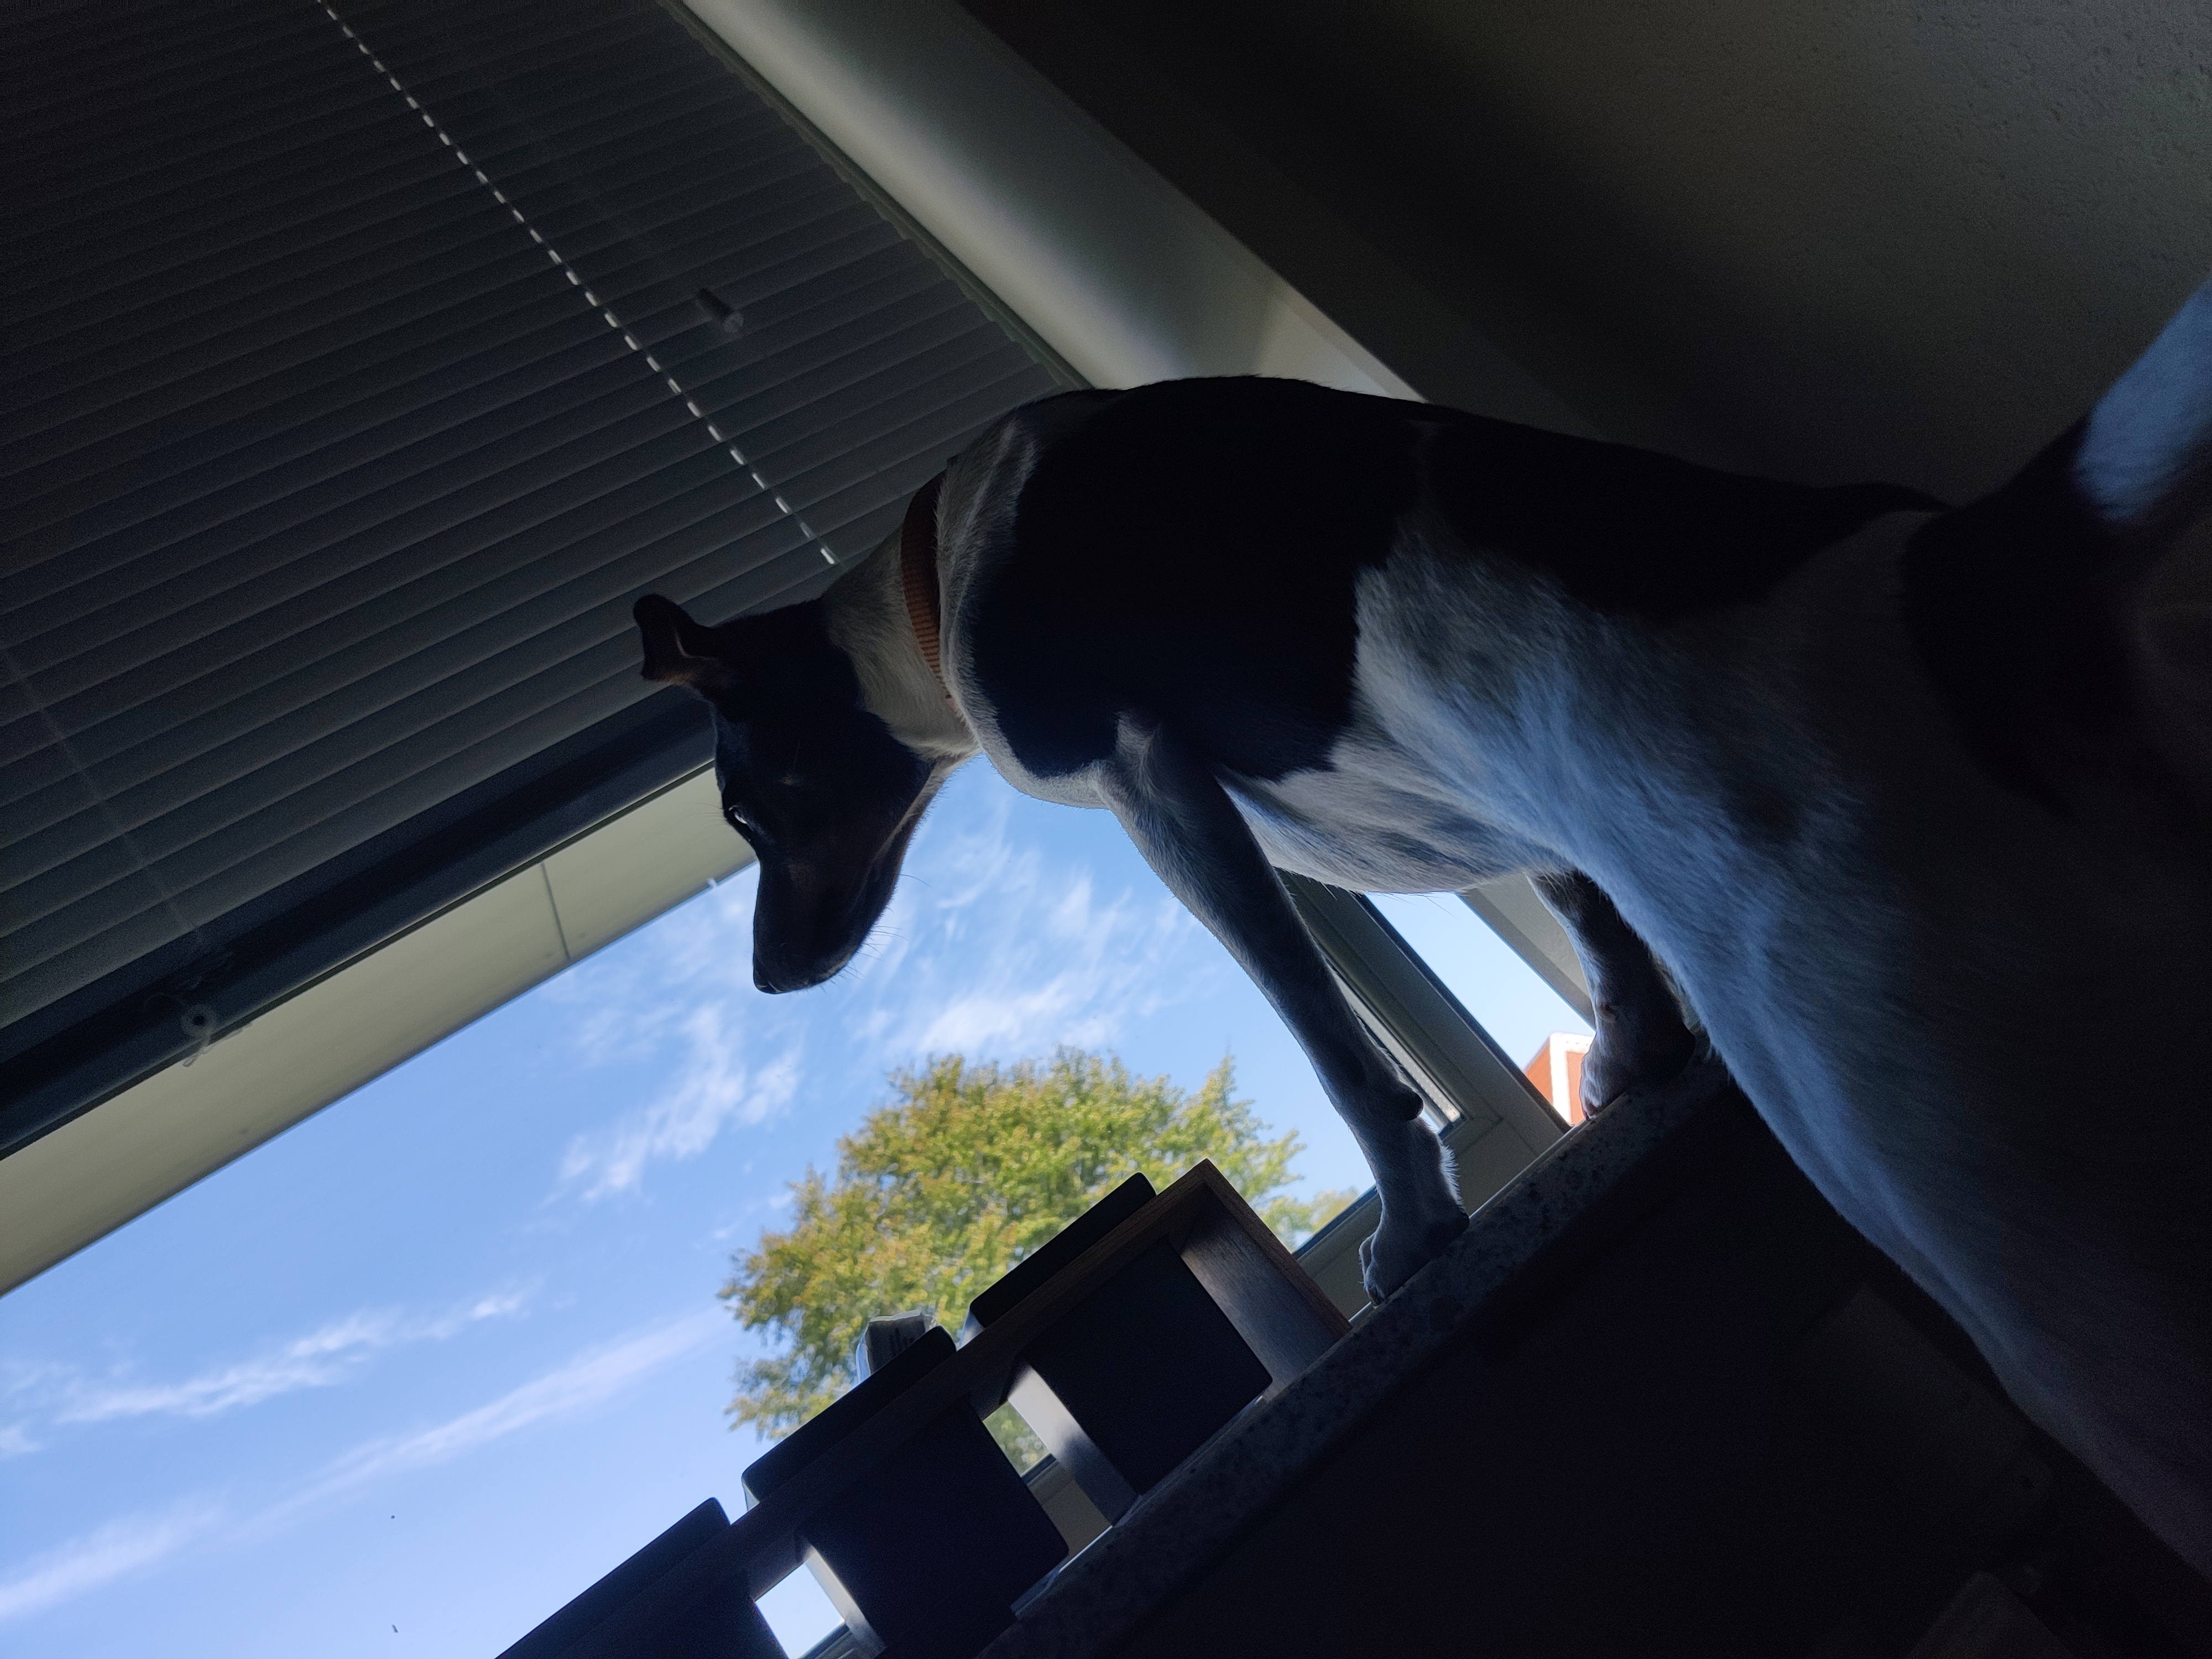Dog: (631, 256, 2212, 1565)
